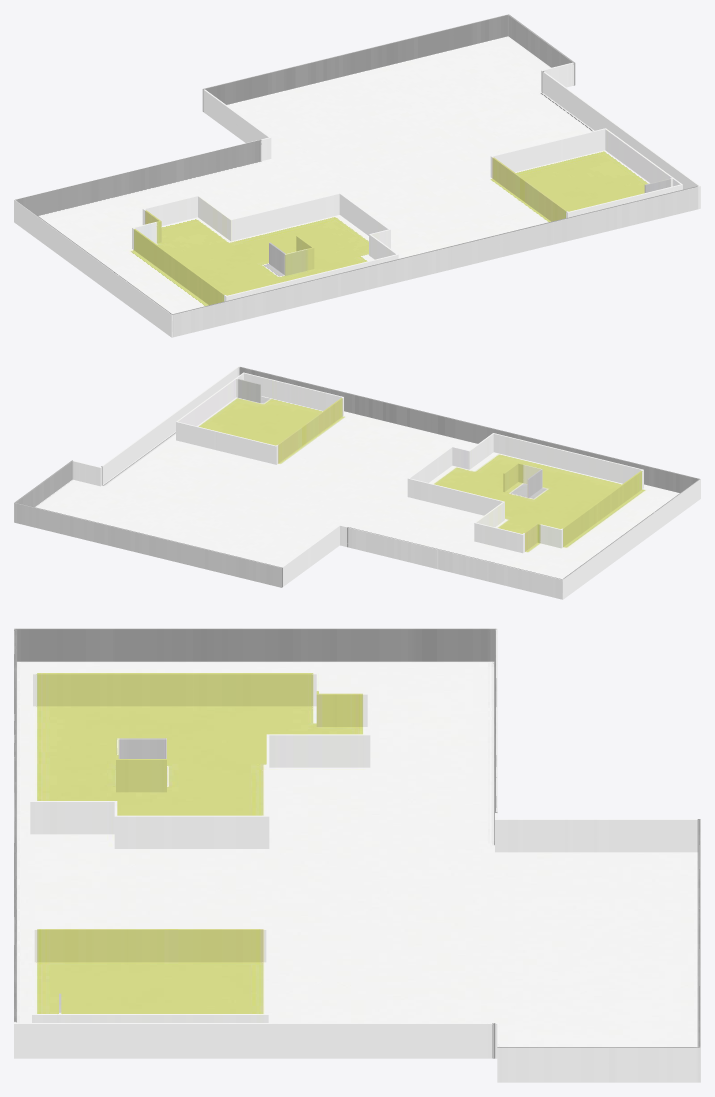
File: 0_floor.glb
The picture shows the model from 3 angles, top to bottom: view 1: azimuth 30°, elevation 25°; view 2: azimuth 150°, elevation 25°; view 3: azimuth 270°, elevation 25°; orthographic projection. The views are drawn at different scales.
Parts seen in each view (by area): view 1: Line047, Line046, Box595, Box515, Box582, Box497, Box562, Box547, Box519, Box598, Box580, Box614 (+19 smaller); view 2: Line047, Line046, Box595, Box515, Box599, Box497, Box519, Box580, Box562, Box614, Box598, Box604 (+20 smaller); view 3: Line047, Line046, Box580, Box595, Box604, Box612, Box516, Box593, Box518, Box605, Box535, Box499 (+6 smaller).
Boxes of the visible parts, x1,y1,x2,y2 form: Line047: (38, 36, 594, 313); Line046: (156, 215, 374, 295); Box595: (515, 150, 649, 211); Box515: (323, 15, 508, 81); Box582: (548, 186, 700, 245); Box497: (14, 165, 158, 222); Box562: (430, 223, 548, 274); Box547: (171, 287, 286, 337); Box519: (205, 60, 323, 104); Box598: (232, 194, 339, 240); Box580: (541, 71, 698, 189); Box614: (490, 129, 605, 177); Line047: (35, 411, 679, 579); Line046: (429, 452, 622, 533); Box595: (197, 397, 322, 445); Box515: (14, 503, 176, 562); Box599: (493, 434, 643, 488); Box497: (437, 549, 563, 599); Box519: (177, 542, 280, 587); Box580: (101, 367, 238, 485); Box562: (370, 399, 474, 442); Box614: (176, 422, 277, 464); Box598: (407, 478, 502, 515); Box604: (561, 470, 643, 547); Line047: (16, 661, 698, 1046); Line046: (33, 706, 367, 815); Box580: (14, 1024, 497, 1058); Box595: (34, 962, 266, 1013); Box604: (33, 674, 316, 706); Box612: (34, 930, 266, 962); Box516: (497, 1048, 698, 1082); Box593: (166, 629, 370, 661); Box518: (497, 820, 698, 852); Box605: (114, 816, 266, 848); Box535: (16, 629, 166, 661); Box499: (370, 629, 494, 661).
Bounding box in the file's own units: 117084 × 4500 × 81007.
1 material, 1 textured.
